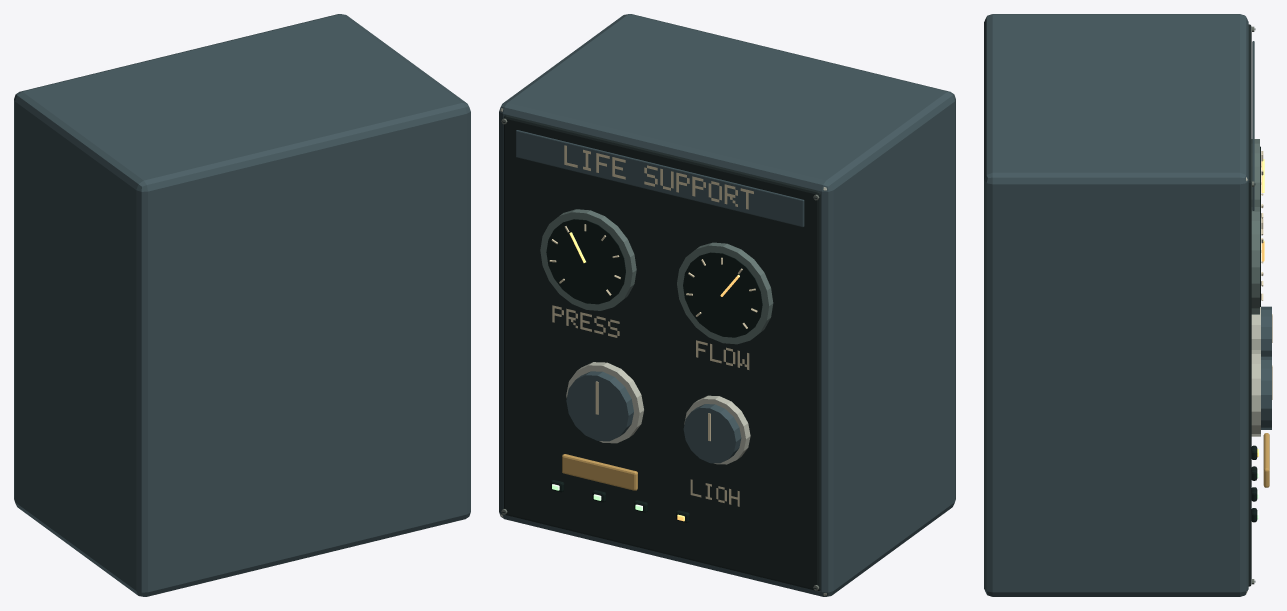
The model's file is life_support.glb.
3 views of the same model, side by side, from view 1: azimuth 30°, elevation 25°; view 2: azimuth 150°, elevation 25°; view 3: azimuth 270°, elevation 25° (orthographic).
Visible parts, largest first — view 1: life_support; view 2: life_support; view 3: life_support.
Part boxes in pixels (box(x1,y1,x2,y2)): life_support: box(14, 14, 470, 596); life_support: box(499, 14, 955, 596); life_support: box(984, 14, 1272, 596).
Size of the model in its own units: 0.535 by 0.638 by 0.394.
